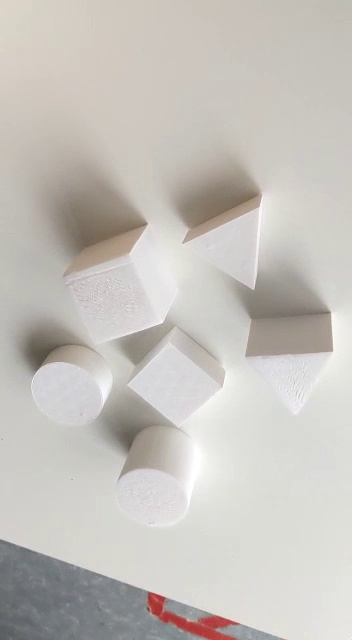Clyinder_short: (26, 342, 112, 430)
Cube: (57, 215, 183, 348)
Cube_short: (123, 325, 225, 433)
Cylinder: (111, 421, 200, 531)
Triangle: (242, 310, 338, 421)
Triangle_short: (180, 192, 265, 292)
